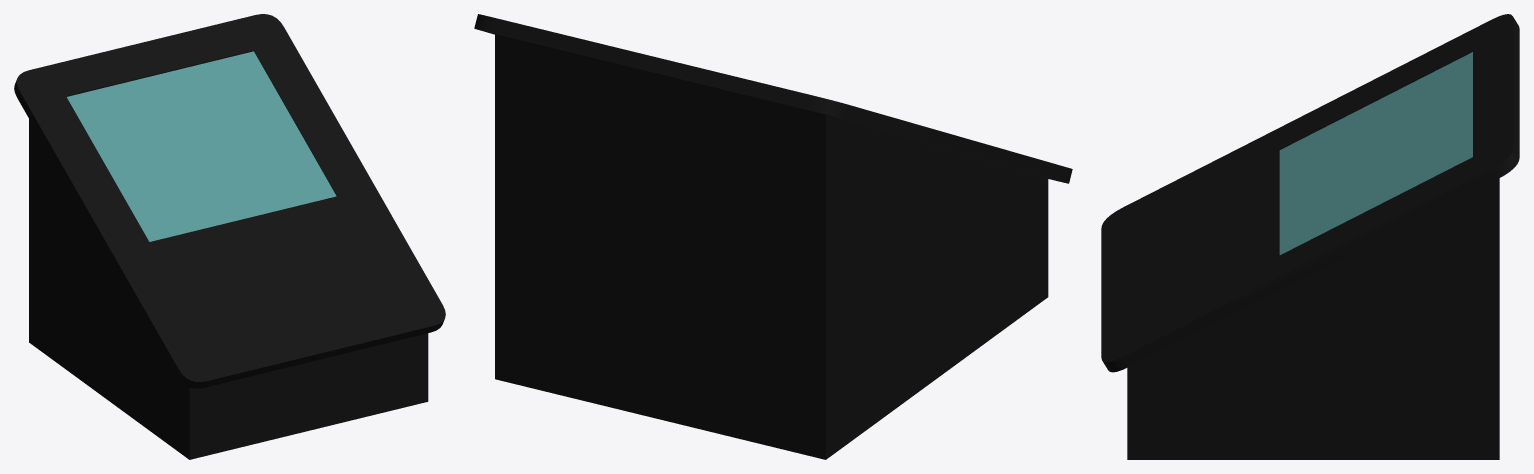
File: card reader.fbx
3 views of the same model, side by side, from view 1: azimuth 30°, elevation 25°; view 2: azimuth 150°, elevation 25°; view 3: azimuth 270°, elevation 25° (orthographic). The views are drawn at different scales.
Parts seen in each view (by area): view 1: body, screen; view 2: body; view 3: body, screen.
Part boxes in pixels (box(x1,y1,x2,y2)): body: box(14, 14, 445, 459); screen: box(67, 51, 336, 241); body: box(474, 14, 1072, 459); body: box(1101, 14, 1519, 459); screen: box(1279, 52, 1472, 254).
Bounding box in the file's own units: 15.49 × 18.32 × 14.94.
